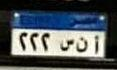2: (40, 31, 52, 53), (29, 31, 39, 52), (18, 32, 28, 51)
alif: (92, 33, 100, 55)
noon: (75, 35, 88, 53)
seen: (60, 36, 75, 52)
